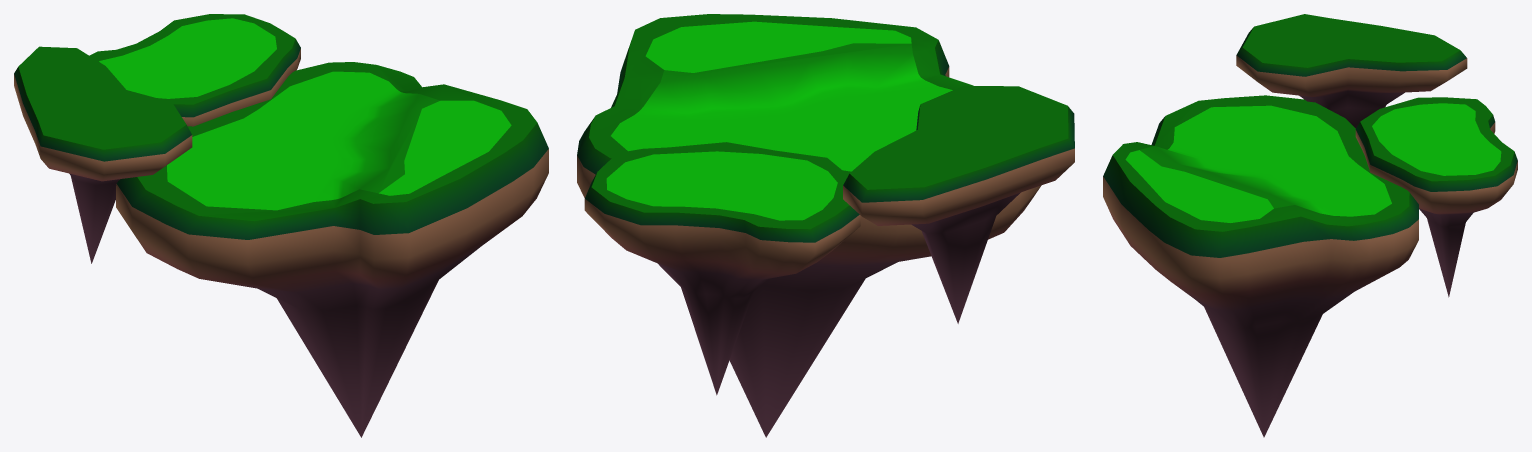
The model's file is Fbx_LevelTest.fbx.
3 views of the same model, side by side, from view 1: azimuth 30°, elevation 25°; view 2: azimuth 150°, elevation 25°; view 3: azimuth 270°, elevation 25° (orthographic). The views are drawn at different scales.
Visible parts, largest first — view 1: Plane.001, Plane.002, Plane; view 2: Plane.001, Plane, Plane.002; view 3: Plane.001, Plane.002, Plane.
Boxes of the visible parts, <box> form: Plane.001: <box>116,62,548,437</box>; Plane.002: <box>14,46,192,263</box>; Plane: <box>89,14,300,126</box>; Plane.001: <box>577,14,1041,437</box>; Plane: <box>584,142,860,395</box>; Plane.002: <box>843,85,1074,323</box>; Plane.001: <box>1103,95,1418,437</box>; Plane.002: <box>1236,14,1467,128</box>; Plane: <box>1355,97,1517,297</box>.
Size of the model in its own units: 16.45 by 12.49 by 15.52.
